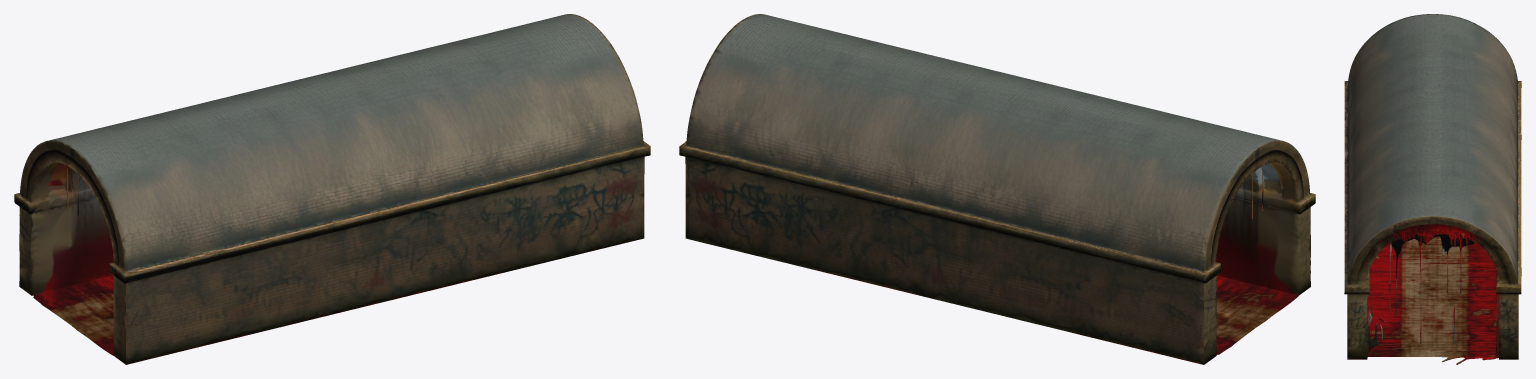
Rendered from tunel.fbx.
The picture shows the model from 3 angles, left to right: view 1: azimuth 30°, elevation 25°; view 2: azimuth 150°, elevation 25°; view 3: azimuth 270°, elevation 25°; orthographic projection. The views are drawn at different scales.
Parts seen in each view (by area): view 1: tripo_node_7b25b392; view 2: tripo_node_7b25b392; view 3: tripo_node_7b25b392.
Part boxes in pixels (box(x1,y1,x2,y2)): tripo_node_7b25b392: box(14, 14, 650, 364); tripo_node_7b25b392: box(679, 14, 1315, 364); tripo_node_7b25b392: box(1344, 14, 1521, 364).
Size of the model in its own units: 0.9999 by 0.3346 by 0.3628.
1 material, 1 textured.
